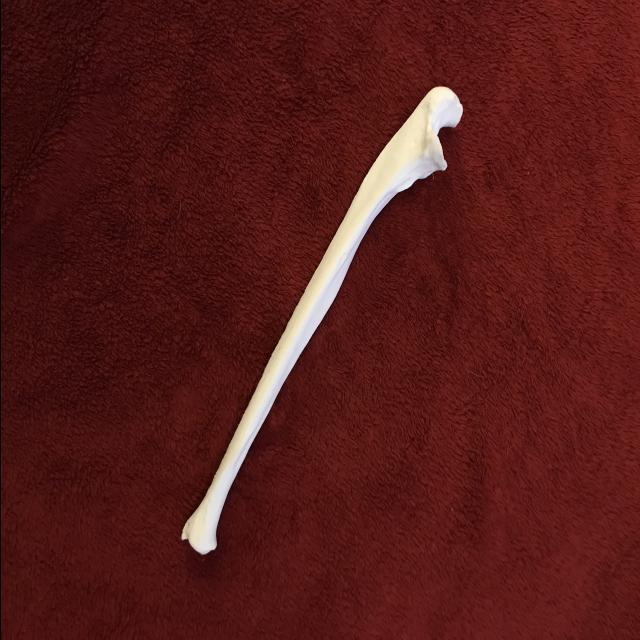bone: (182, 77, 464, 557)
